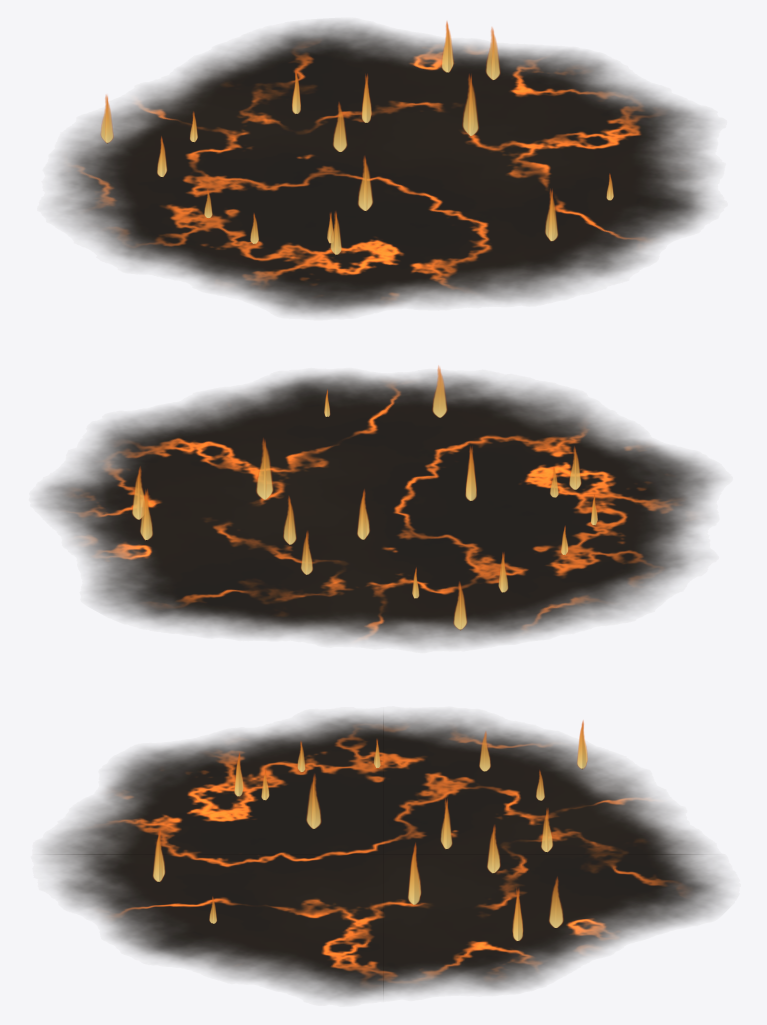
The model's file is fx_cinder_patch.glb.
3 renders of one model, top to bottom at view 1: azimuth 30°, elevation 25°; view 2: azimuth 150°, elevation 25°; view 3: azimuth 270°, elevation 25°, orthographic.
Parts seen in each view (by area): view 1: Patch, Flames; view 2: Patch, Flames; view 3: Patch, Flames.
Boxes of the visible parts, box(x1,y1,x2,y2) form: Patch: box(53, 22, 713, 315); Flames: box(100, 21, 613, 254); Patch: box(38, 372, 720, 646); Flames: box(132, 366, 597, 629); Patch: box(43, 713, 726, 1000); Flames: box(153, 720, 587, 940).
Size of the model in its own units: 6 by 0.5786 by 6.
2 materials, 2 textured.
